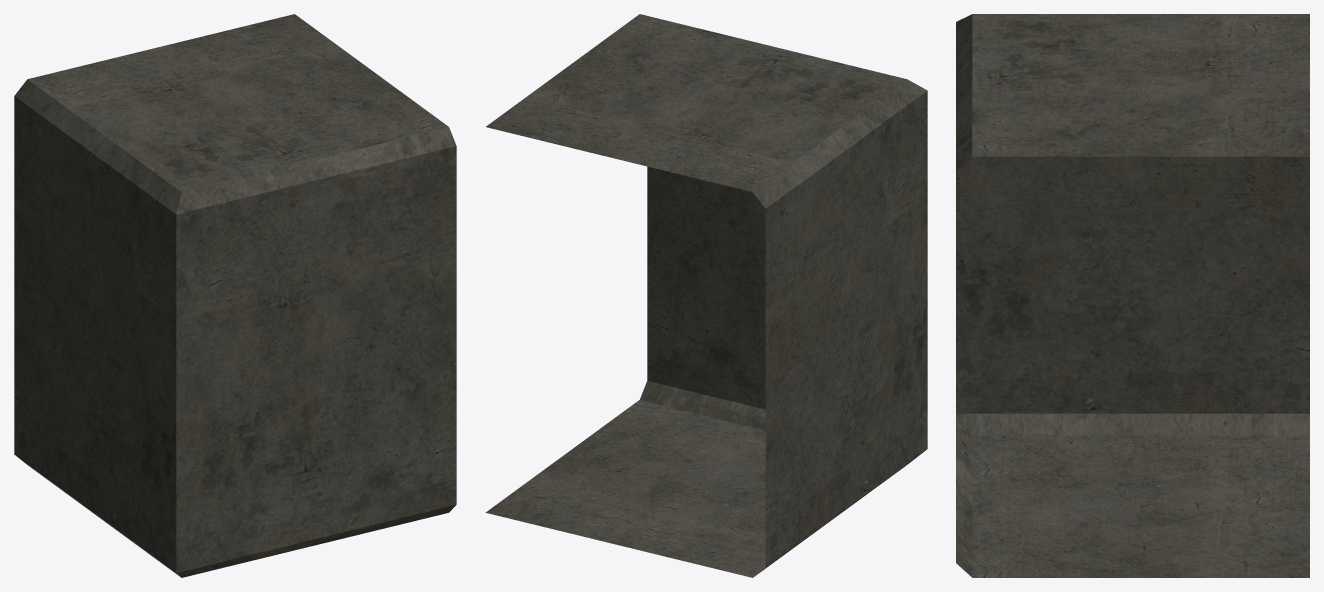
File: CT_Building_Trim_Corner_002.fbx
3 views of the same model, side by side, from view 1: azimuth 30°, elevation 25°; view 2: azimuth 150°, elevation 25°; view 3: azimuth 270°, elevation 25° (orthographic). The views are drawn at different scales.
Visible parts, largest first — view 1: CT_Building_Trim_Corner_002; view 2: CT_Building_Trim_Corner_002; view 3: CT_Building_Trim_Corner_002.
Part boxes in pixels (box(x1,y1,x2,y2)): CT_Building_Trim_Corner_002: box(14, 14, 456, 577); CT_Building_Trim_Corner_002: box(485, 14, 927, 577); CT_Building_Trim_Corner_002: box(956, 14, 1309, 577).
Size of the model in its own units: 21.65 by 28.46 by 21.65.
